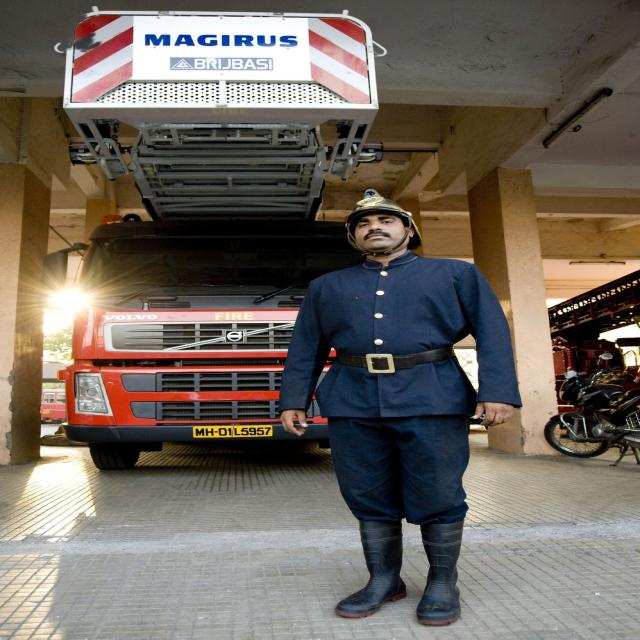emergency: (62, 11, 381, 470)
motorcycle: (545, 370, 640, 461)
